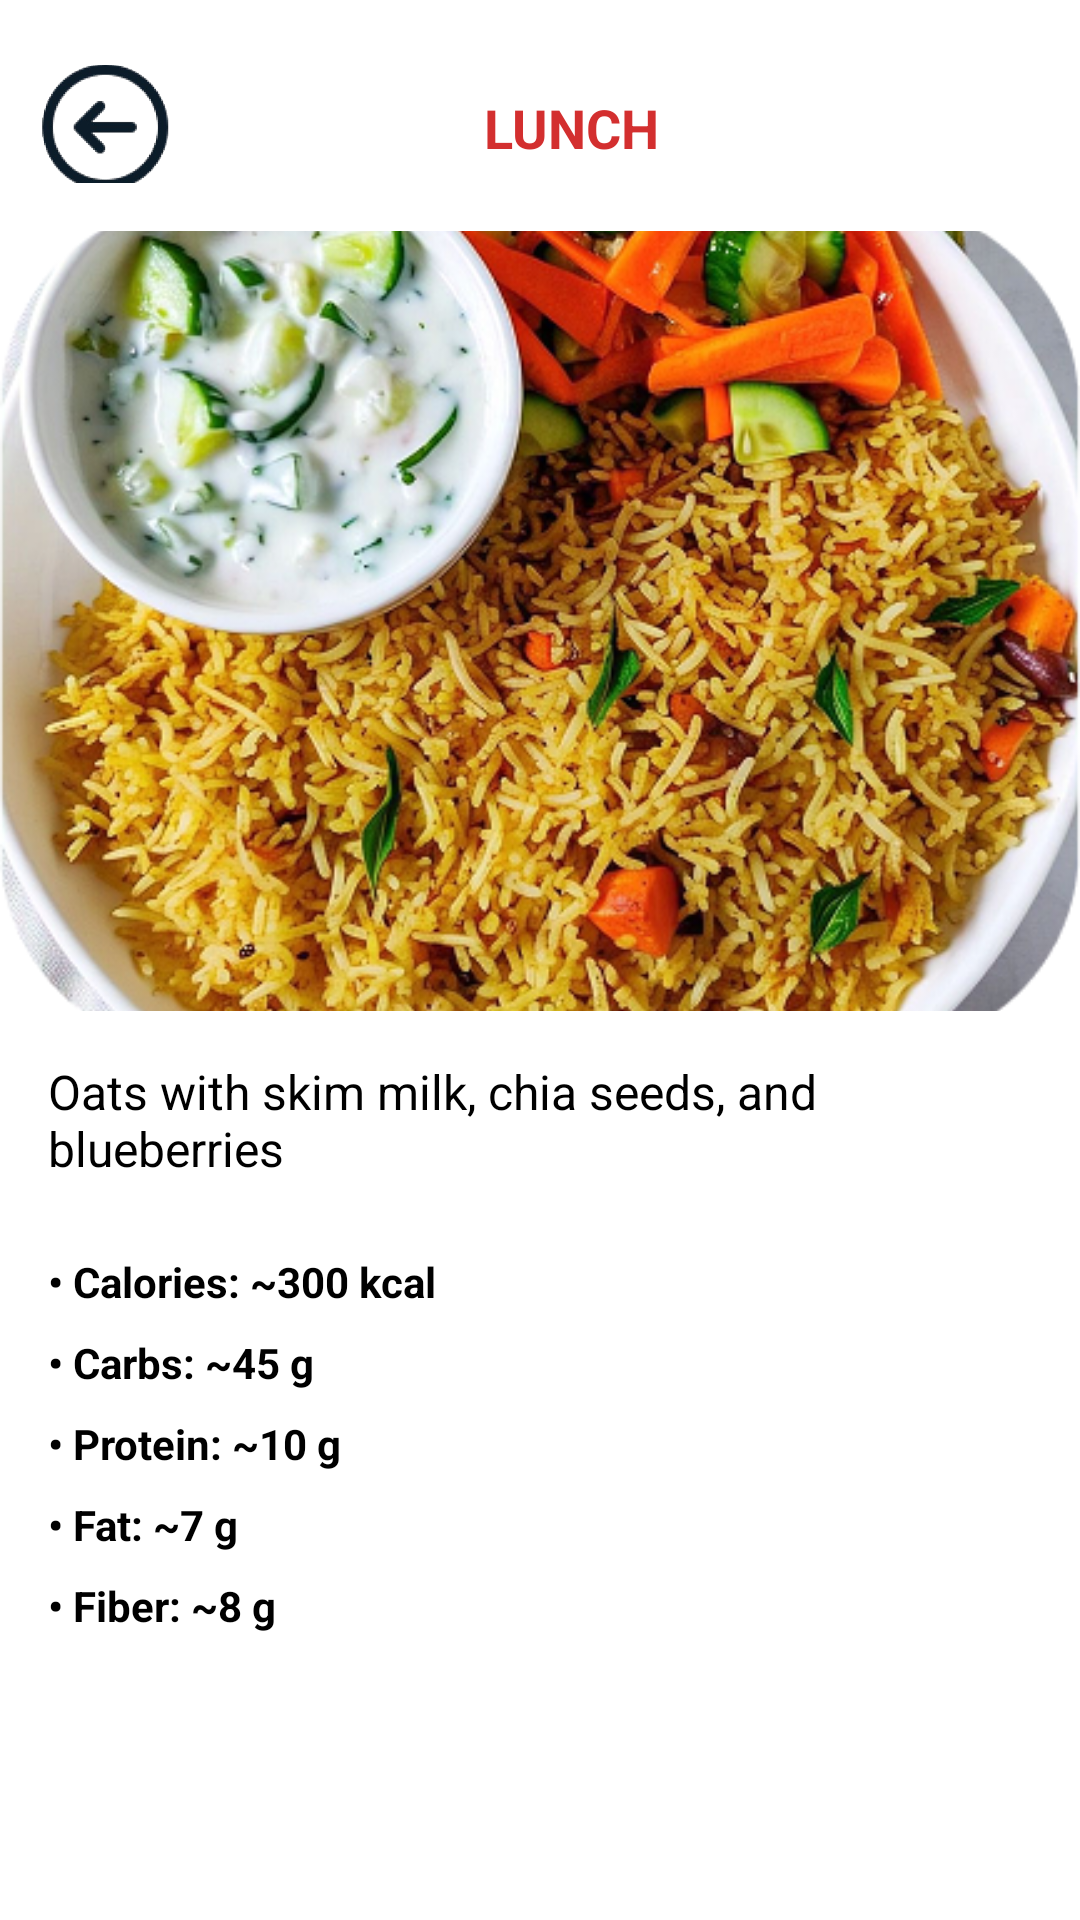

Point at icon controls on the screen. Image size 1080px×1920px, points as (x,y).
Back: (105,124)
